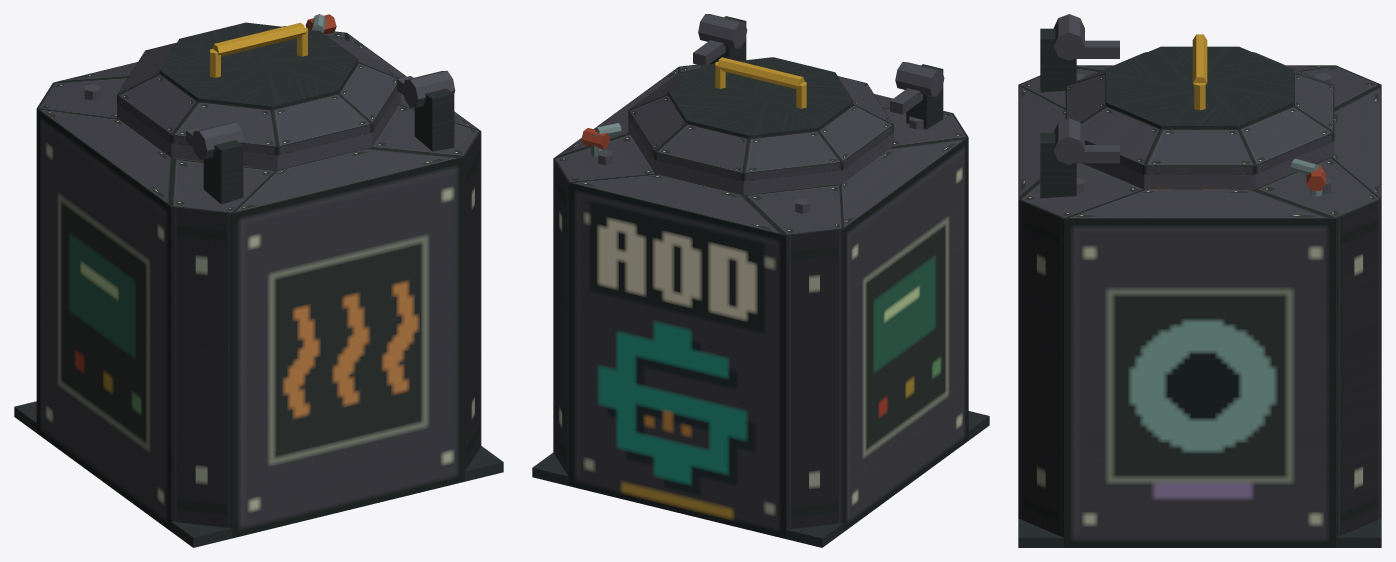
The model's file is small_aod_niobium_titanium.obj.
The picture shows the model from 3 angles, left to right: view 1: azimuth 30°, elevation 25°; view 2: azimuth 150°, elevation 25°; view 3: azimuth 270°, elevation 25°; orthographic projection. The views are drawn at different scales.
Parts seen in each view (by area): view 1: contact_south, contact_west, lid, cut_corners, shoulder, hinge, sole_edge; view 2: contact_north, contact_west, lid, cut_corners, shoulder, hinge, sole_edge, gas_trim; view 3: contact_east, lid, cut_corners, shoulder, hinge, sole_edge, gas_trim.
Part boxes in pixels (left/top/right/bottom): contact_south: left=232, top=157, right=464, bottom=538; contact_west: left=36, top=109, right=170, bottom=531; lid: left=117, top=22, right=413, bottom=169; cut_corners: left=171, top=131, right=481, bottom=528; shoulder: left=37, top=26, right=480, bottom=213; hinge: left=191, top=70, right=455, bottom=204; sole_edge: left=14, top=401, right=503, bottom=547; contact_north: left=568, top=183, right=785, bottom=538; contact_west: left=843, top=137, right=968, bottom=532; lid: left=628, top=40, right=922, bottom=194; cut_corners: left=553, top=159, right=843, bottom=529; shoulder: left=553, top=64, right=968, bottom=235; hinge: left=698, top=14, right=944, bottom=129; sole_edge: left=532, top=411, right=989, bottom=547; gas_trim: left=581, top=123, right=621, bottom=156; contact_east: left=1064, top=219, right=1335, bottom=547; lid: left=1065, top=34, right=1334, bottom=188; cut_corners: left=1018, top=200, right=1381, bottom=537; shoulder: left=1018, top=65, right=1381, bottom=218; hinge: left=1040, top=14, right=1084, bottom=198; sole_edge: left=1018, top=518, right=1381, bottom=547; gas_trim: left=1291, top=159, right=1325, bottom=196.
Bounding box in the file's own units: 1 × 1.26 × 1.
Materials: 14 (14 with a texture image).
